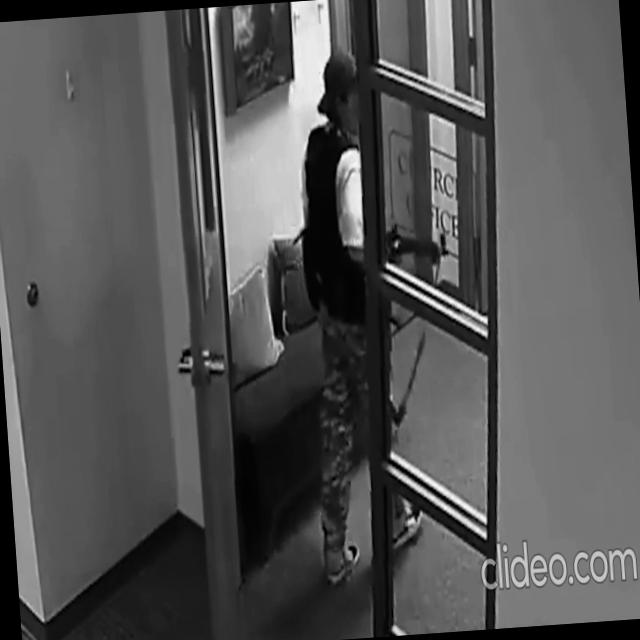gun: (364, 216, 452, 274)
person with a gun: (285, 41, 474, 586)
